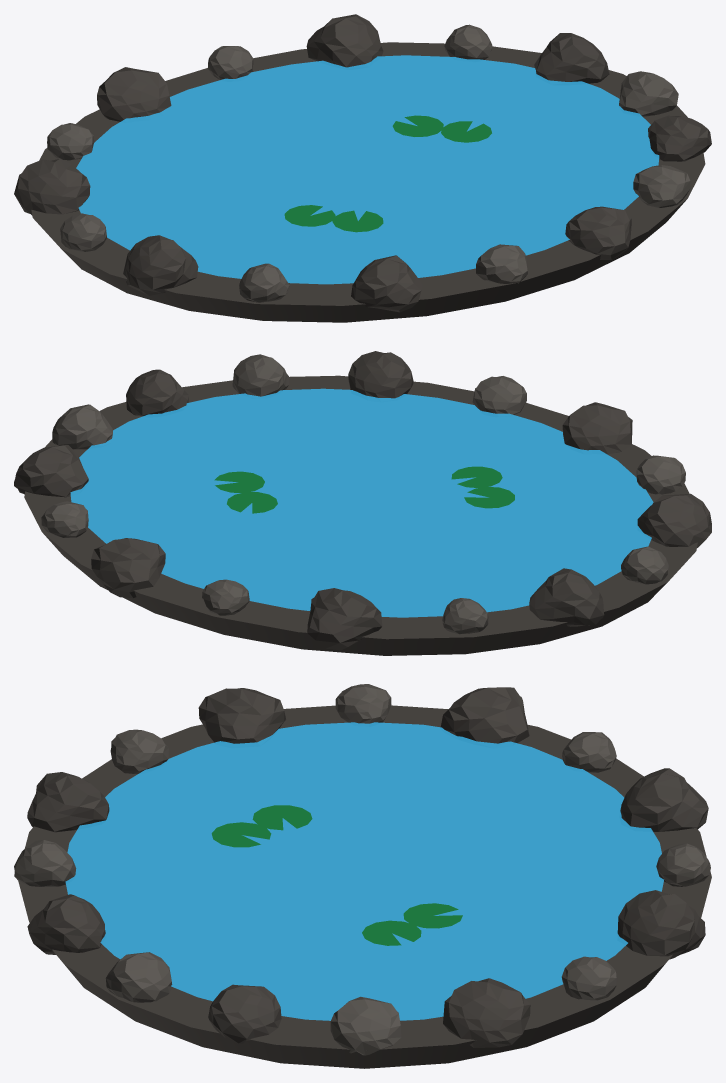
File: stream_pond_01.glb
3 views of the same model, one above another, from view 1: azimuth 30°, elevation 25°; view 2: azimuth 150°, elevation 25°; view 3: azimuth 270°, elevation 25° (orthographic). The views are drawn at different scales.
Parts seen in each view (by area): view 1: Stream_Pond_01; view 2: Stream_Pond_01; view 3: Stream_Pond_01.
Part boxes in pixels (left/top/right/bottom): Stream_Pond_01: left=14, top=14, right=711, bottom=322; Stream_Pond_01: left=14, top=351, right=711, bottom=655; Stream_Pond_01: left=14, top=684, right=711, bottom=1068.
Size of the model in its own units: 6.02 by 0.5826 by 5.1.
